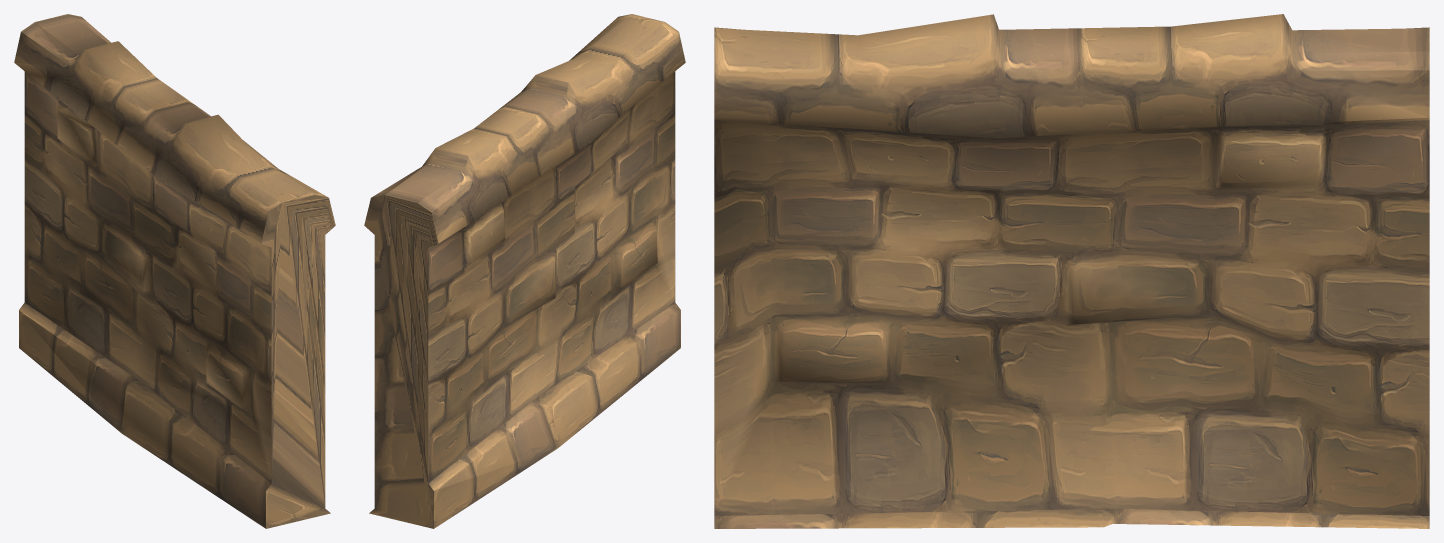
The model's file is Wall.FBX.
3 views of the same model, side by side, from view 1: azimuth 30°, elevation 25°; view 2: azimuth 150°, elevation 25°; view 3: azimuth 270°, elevation 25° (orthographic). The views are drawn at different scales.
Parts seen in each view (by area): view 1: Object011; view 2: Object011; view 3: Object011.
Boxes of the visible parts, bbox=[...] form: Object011: bbox=[14, 14, 335, 528]; Object011: bbox=[364, 14, 685, 528]; Object011: bbox=[714, 14, 1429, 528].
Bounding box in the file's own units: 7582 × 29646 × 40000.
1 material, 1 textured.
